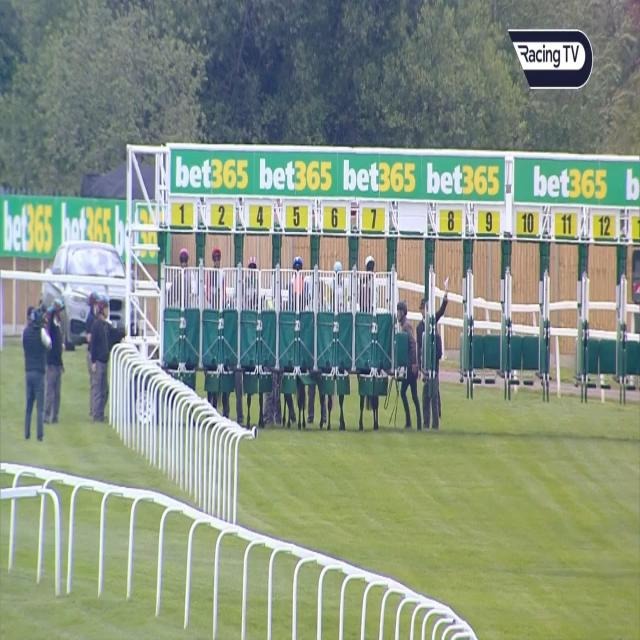horses-racing: (173, 246, 192, 270), (207, 248, 231, 267), (361, 257, 380, 275), (289, 255, 306, 274), (329, 259, 345, 276), (247, 257, 261, 272)
